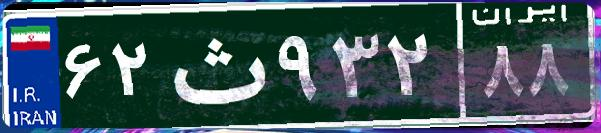2: (385, 28, 445, 110), (110, 28, 158, 105)
3: (330, 28, 385, 110)
6: (57, 26, 110, 107)
8: (475, 38, 525, 113), (525, 38, 570, 115)
9: (273, 28, 330, 110)
ث: (158, 15, 273, 115)
